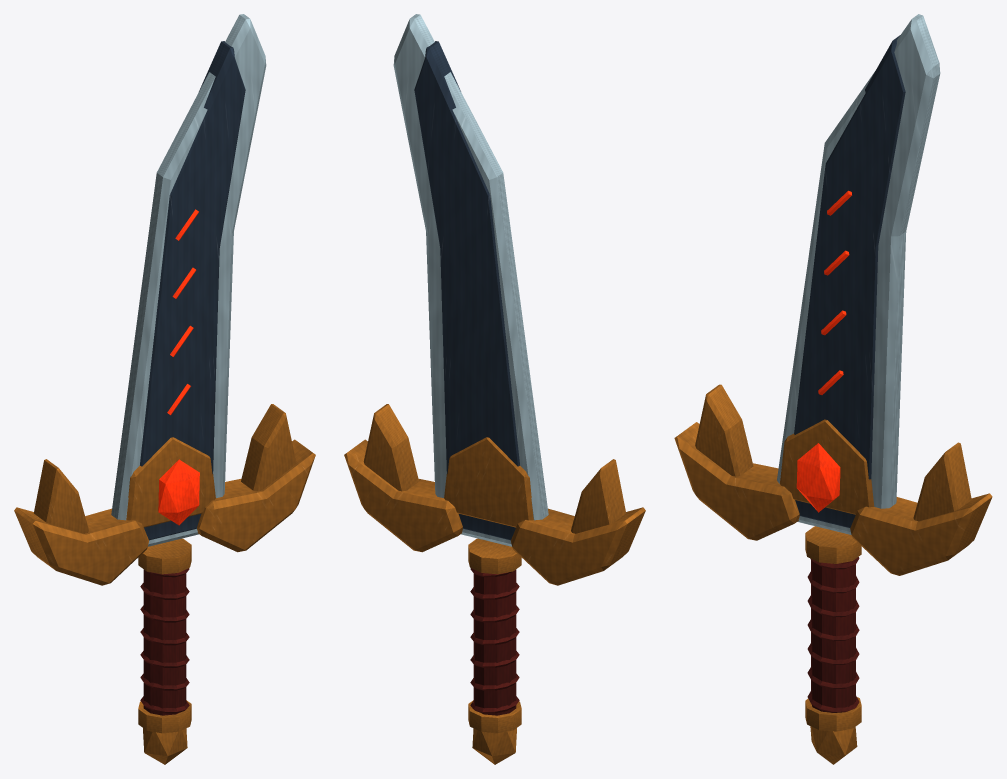
File: sword-t3.glb
3 views of the same model, side by side, from view 1: azimuth 30°, elevation 25°; view 2: azimuth 150°, elevation 25°; view 3: azimuth 330°, elevation 25° (orthographic). The views are drawn at different scales.
Visible parts, largest first — view 1: Sculpted blade core, Cutting edge, Forged guard, Forged guard.001, Leather grip, Blade collar, Guard fluke.001, Guard fluke, Set jewel, Grip ferrule.001, Faceted pommel, Grip ferrule; view 2: Sculpted blade core, Cutting edge, Forged guard, Forged guard.001, Blade collar, Leather grip, Guard fluke.001, Guard fluke, Grip ferrule.001, Faceted pommel, Grip ferrule; view 3: Sculpted blade core, Cutting edge, Forged guard.001, Forged guard, Leather grip, Blade collar, Guard fluke, Guard fluke.001, Set jewel, Grip ferrule.001, Faceted pommel, Grip ferrule.
Part boxes in pixels (x1=…): Sculpted blade core: x1=140, y1=41, x2=245, y2=540; Cutting edge: x1=111, y1=14, x2=266, y2=546; Forged guard: x1=14, y1=507, x2=148, y2=585; Forged guard.001: x1=197, y1=439, x2=315, y2=552; Leather grip: x1=143, y1=569, x2=186, y2=715; Blade collar: x1=126, y1=437, x2=215, y2=527; Guard fluke.001: x1=241, y1=404, x2=296, y2=491; Guard fluke: x1=34, y1=459, x2=88, y2=533; Set jewel: x1=158, y1=459, x2=199, y2=525; Grip ferrule.001: x1=138, y1=538, x2=191, y2=574; Faceted pommel: x1=143, y1=728, x2=187, y2=764; Grip ferrule: x1=138, y1=700, x2=191, y2=733; Sculpted blade core: x1=414, y1=41, x2=519, y2=540; Cutting edge: x1=393, y1=14, x2=548, y2=546; Forged guard: x1=511, y1=507, x2=645, y2=585; Forged guard.001: x1=344, y1=439, x2=462, y2=552; Blade collar: x1=444, y1=437, x2=533, y2=527; Leather grip: x1=473, y1=569, x2=516, y2=715; Guard fluke.001: x1=363, y1=404, x2=418, y2=491; Guard fluke: x1=571, y1=459, x2=625, y2=533; Grip ferrule.001: x1=468, y1=538, x2=521, y2=574; Faceted pommel: x1=472, y1=728, x2=516, y2=764; Grip ferrule: x1=468, y1=700, x2=521, y2=733; Sculpted blade core: x1=794, y1=35, x2=905, y2=527; Cutting edge: x1=777, y1=14, x2=940, y2=534; Forged guard.001: x1=850, y1=493, x2=992, y2=575; Forged guard: x1=674, y1=422, x2=799, y2=540; Leather grip: x1=811, y1=560, x2=855, y2=712; Blade collar: x1=780, y1=419, x2=874, y2=514; Guard fluke: x1=695, y1=384, x2=753, y2=476; Guard fluke.001: x1=913, y1=442, x2=971, y2=521; Set jewel: x1=796, y1=443, x2=840, y2=512; Grip ferrule.001: x1=805, y1=526, x2=861, y2=563; Faceted pommel: x1=810, y1=726, x2=857, y2=764; Grip ferrule: x1=805, y1=697, x2=861, y2=731.
Bounding box in the file's own units: 0.4678 × 1.15 × 0.0945.
1 material, 1 textured.
